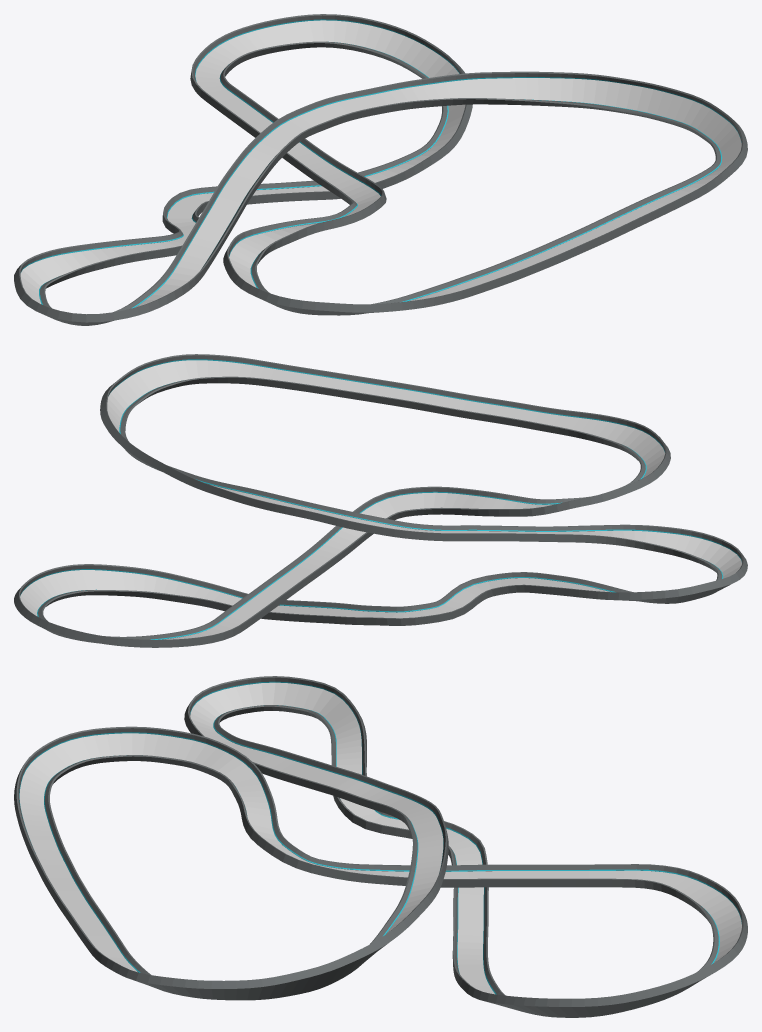
Rendered from Track3B.fbx.
3 renders of one model, top to bottom at view 1: azimuth 30°, elevation 25°; view 2: azimuth 150°, elevation 25°; view 3: azimuth 270°, elevation 25°, orthographic. The views are drawn at different scales.
Parts seen in each view (by area): view 1: Walls, Floor; view 2: Walls, Floor; view 3: Walls, Floor.
Boxes of the visible parts, box(x1,y1,x2,y2) form: Walls: box(14, 14, 747, 325); Floor: box(20, 20, 741, 307); Walls: box(14, 354, 747, 647); Floor: box(20, 360, 741, 639); Walls: box(14, 676, 747, 1017); Floor: box(19, 682, 741, 994).
Bounding box in the file's own units: 185889 × 28367 × 166786.
